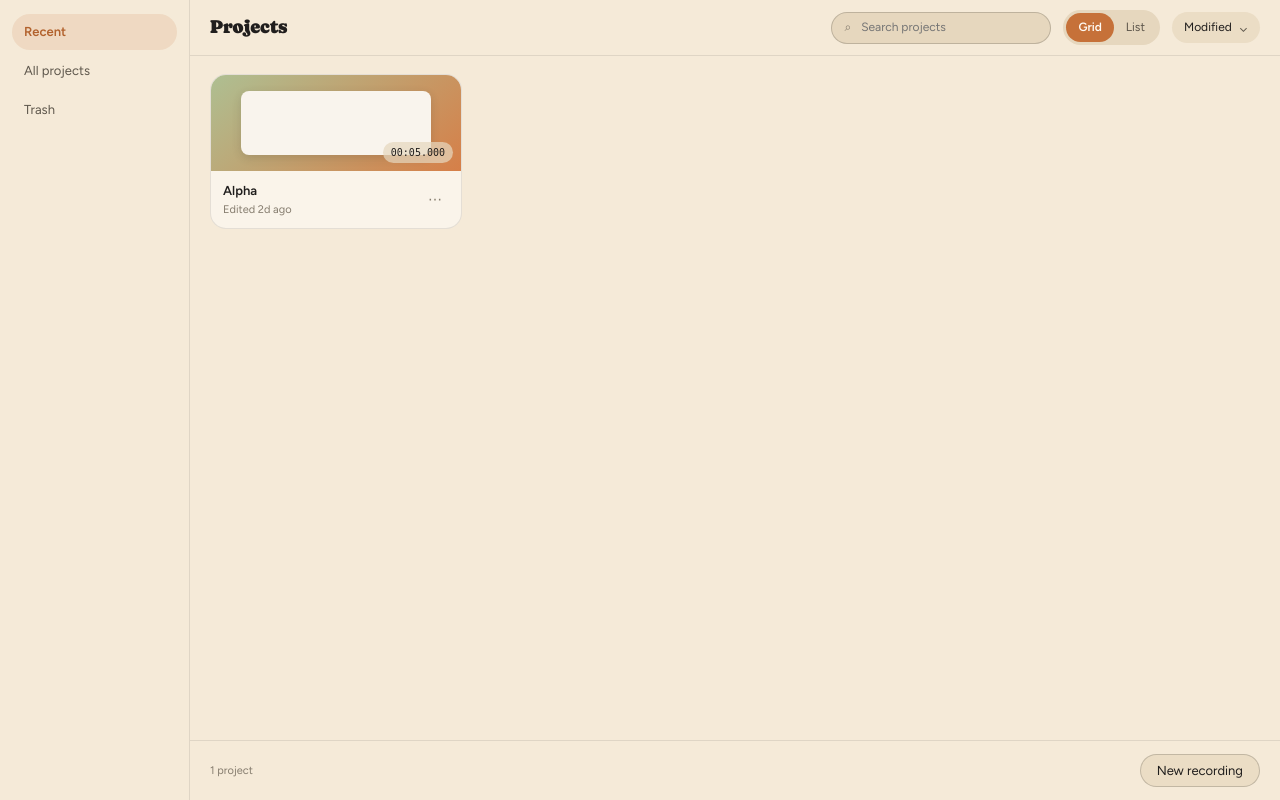
Test: ProjectsContainer: actions › rename → dialog → project:rename → list reloads
Check: the button with aria-label "Open Alpha" is shown, box left=210, top=74, right=462, bottom=229
Step 1. Click the button "⋯" → click(435, 200), box left=421, top=186, right=449, bottom=214
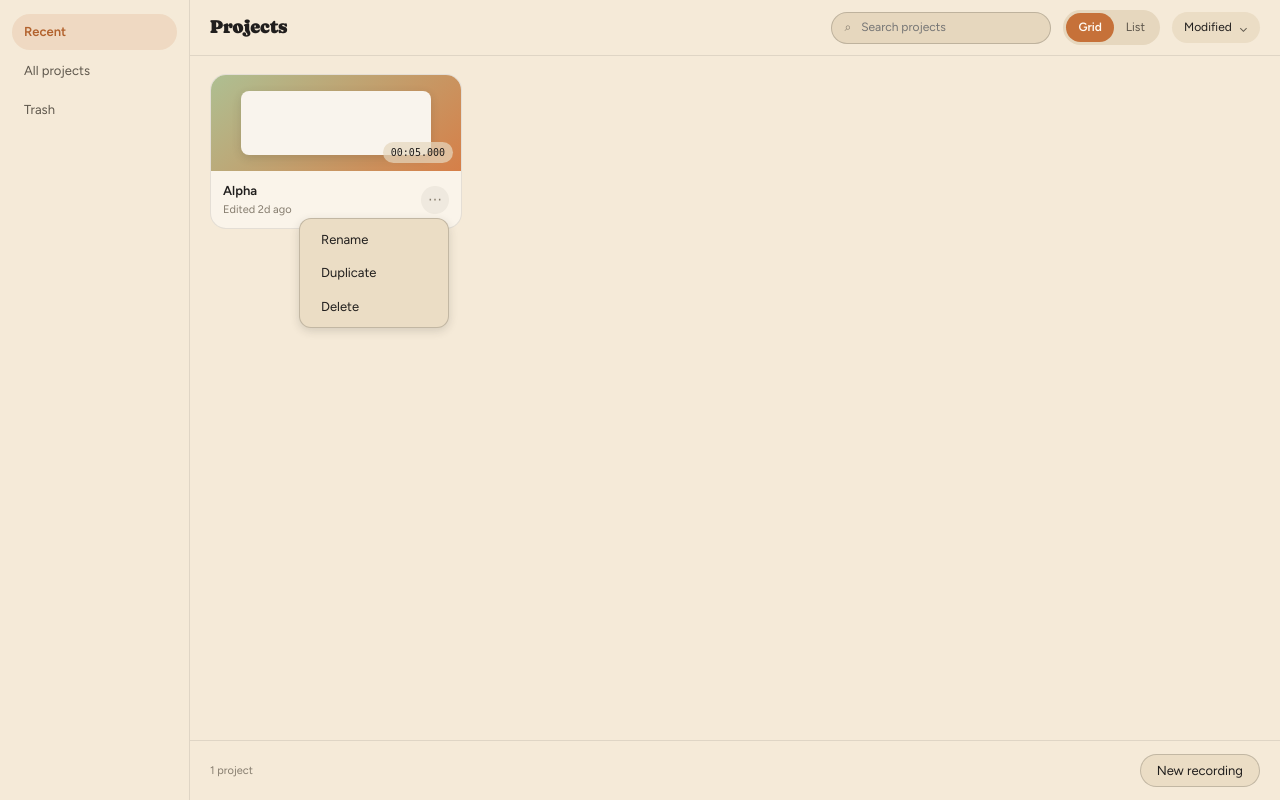
Step 2. Click the menu item "Rename" → click(374, 239), box left=304, top=223, right=444, bottom=256
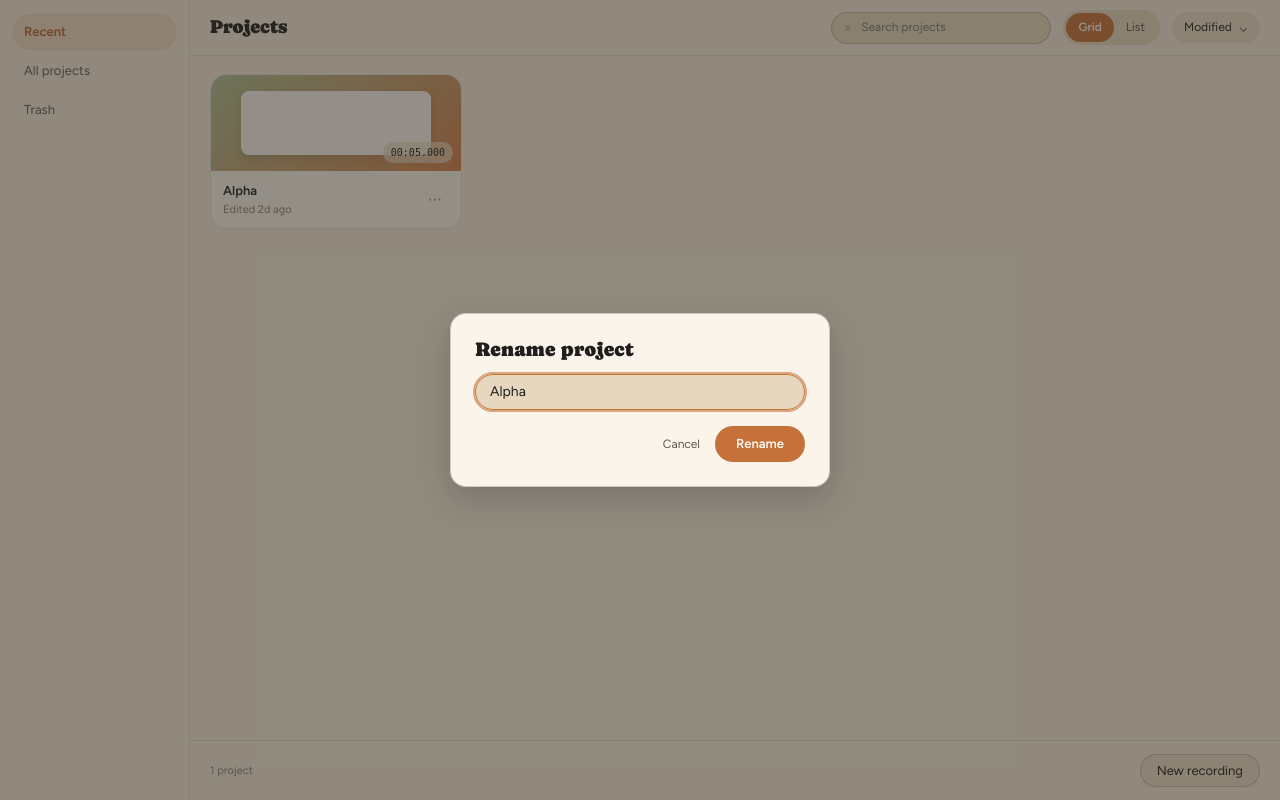
Check: the field named "Project name" holds "Alpha"
Step 3. Replace the text in the field named "Project name" with "  Launch demo " → (640, 392), box left=475, top=374, right=805, bottom=410
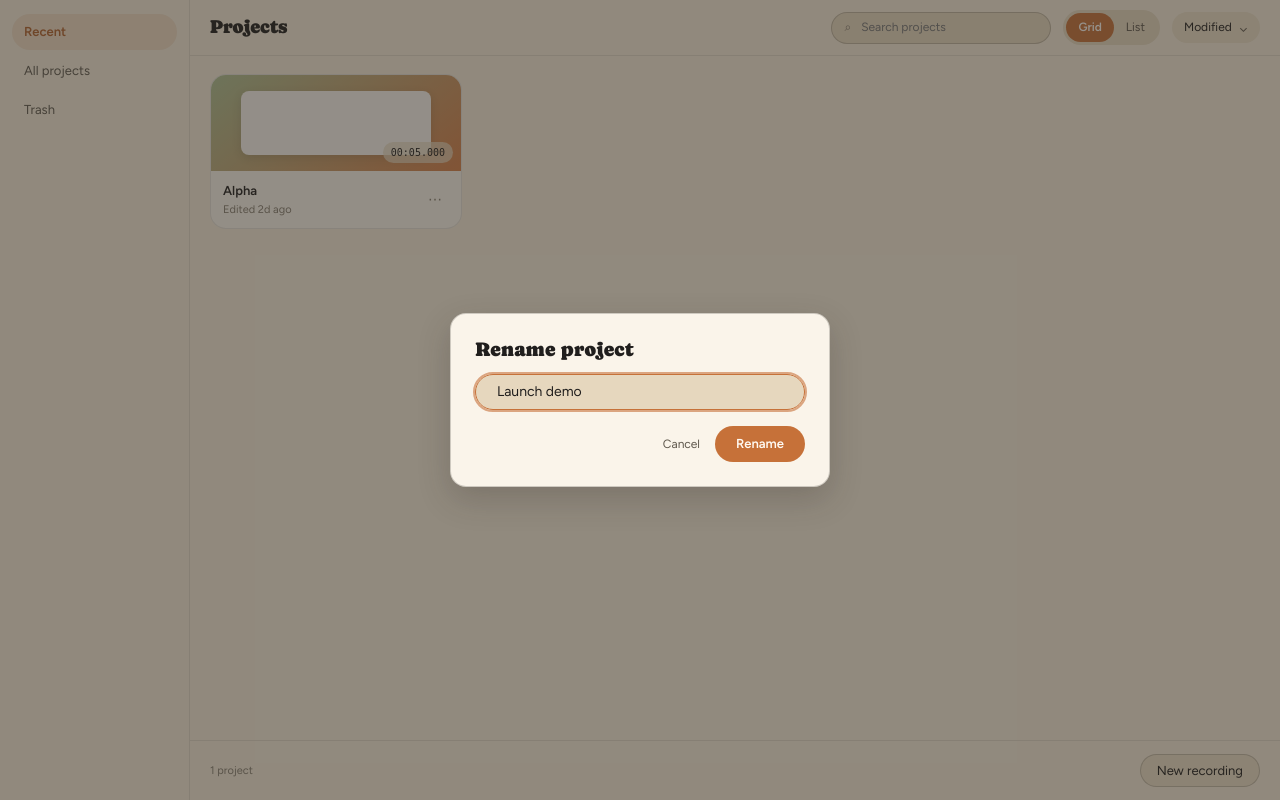
Step 4. Click the button "Rename" → click(760, 444), box left=715, top=426, right=805, bottom=462
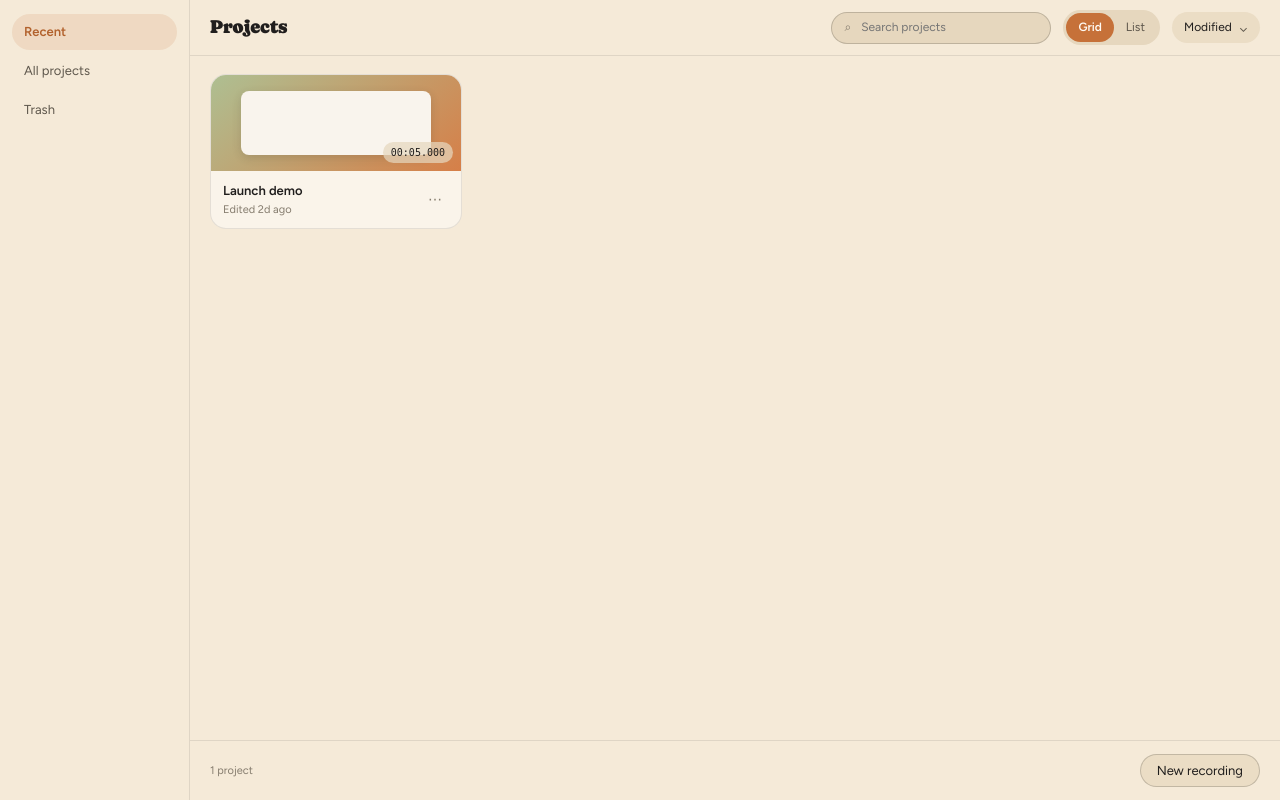
Check: the button with aria-label "Open Launch demo" is shown, box left=210, top=74, right=462, bottom=229
Check: the dialog is gone
